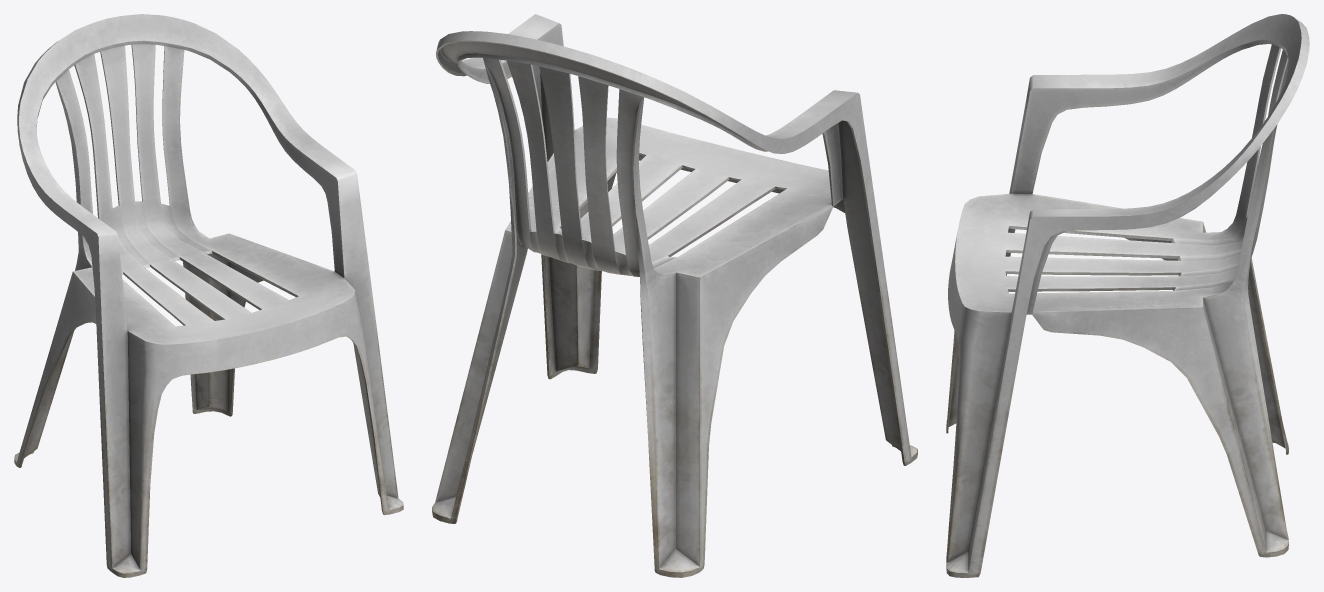
The model's file is chair.glb.
3 views of the same model, side by side, from view 1: azimuth 30°, elevation 25°; view 2: azimuth 150°, elevation 25°; view 3: azimuth 270°, elevation 25° (orthographic). The views are drawn at different scales.
Parts seen in each view (by area): view 1: plastic_monobloc_chair_01; view 2: plastic_monobloc_chair_01; view 3: plastic_monobloc_chair_01.
Part boxes in pixels (box(x1,y1,x2,y2)): plastic_monobloc_chair_01: box(14, 14, 403, 577); plastic_monobloc_chair_01: box(432, 14, 917, 577); plastic_monobloc_chair_01: box(946, 14, 1309, 577).
Size of the model in its own units: 0.6419 by 0.8798 by 0.6276.
1 material, 1 textured.
